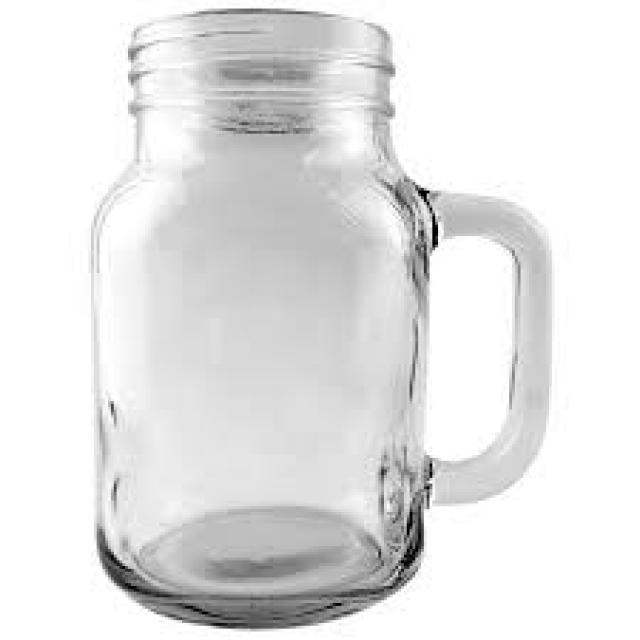glass: (88, 6, 549, 623)
